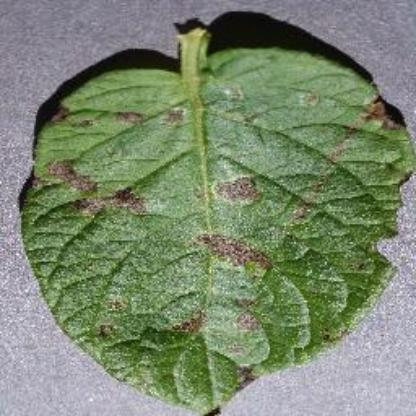Early-Blight: (22, 16, 405, 408)
